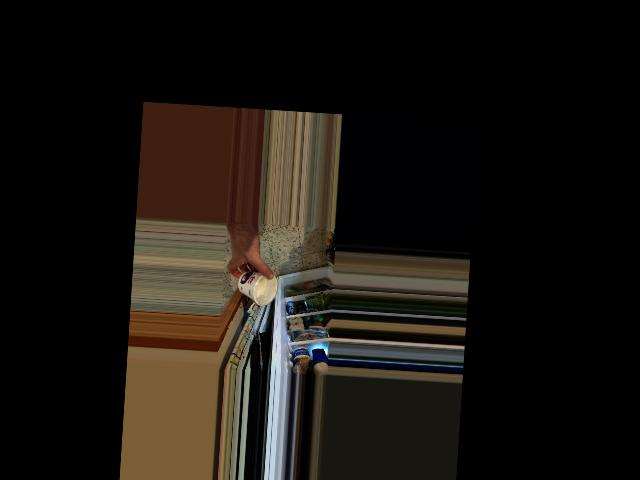cotage: (238, 270, 276, 310)
